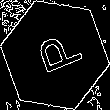P_W: (26, 28, 84, 82)
